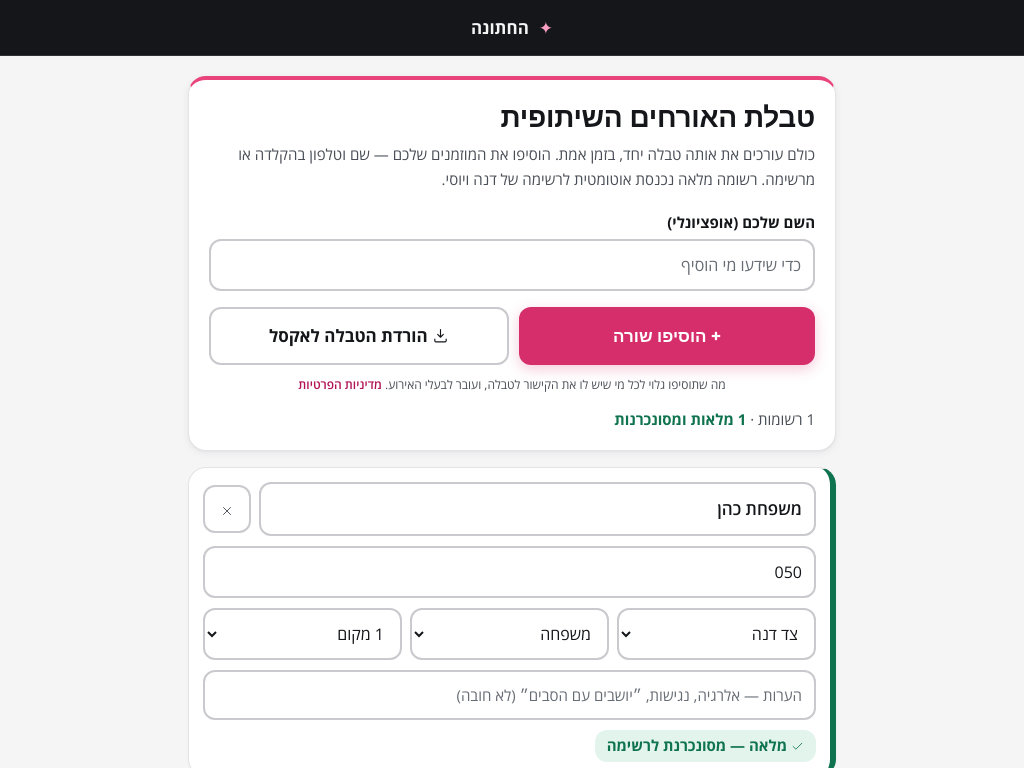
Scenario: shared table › a row whose delete failed is not frozen: the poll still updates it (71c)
Click the button named "מחיקת שורה". click: (227, 509)
box: [203,485,251,533]
Wait 3100 ms
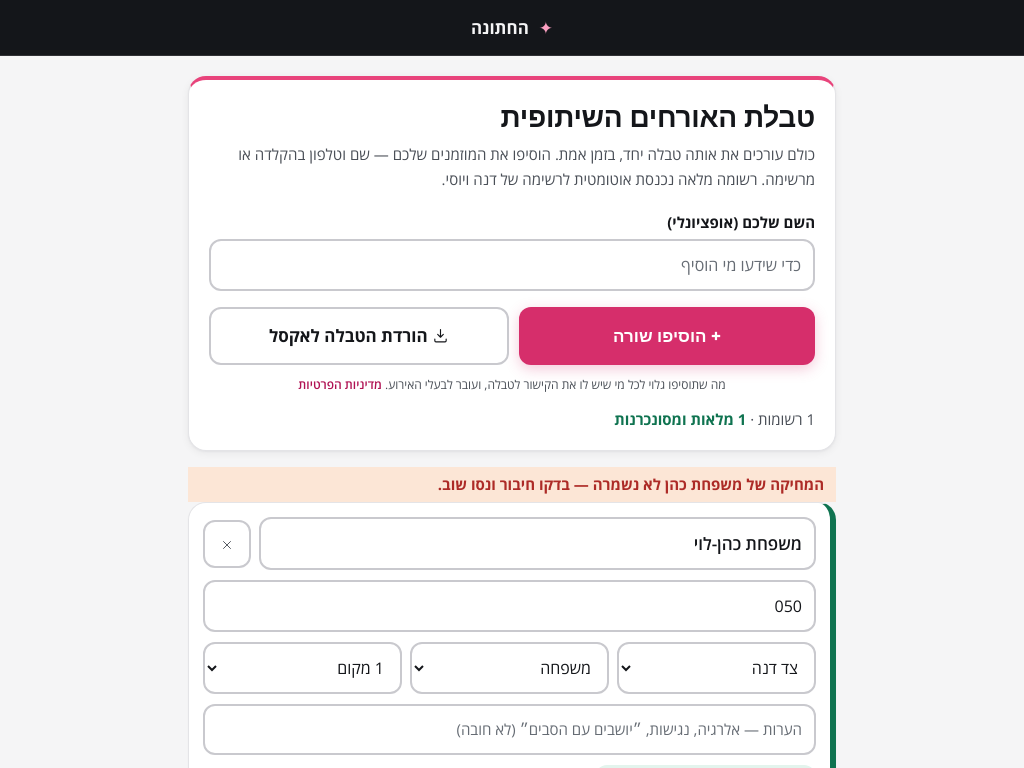
Now the text "המחיקה של משפחת כהן לא נשמרה — בדקו חיבור ונסו שוב." is shown, box [188,467,836,502]
Now the field showing "משפחת כהן-לוי" is shown, box [259,517,816,570]
